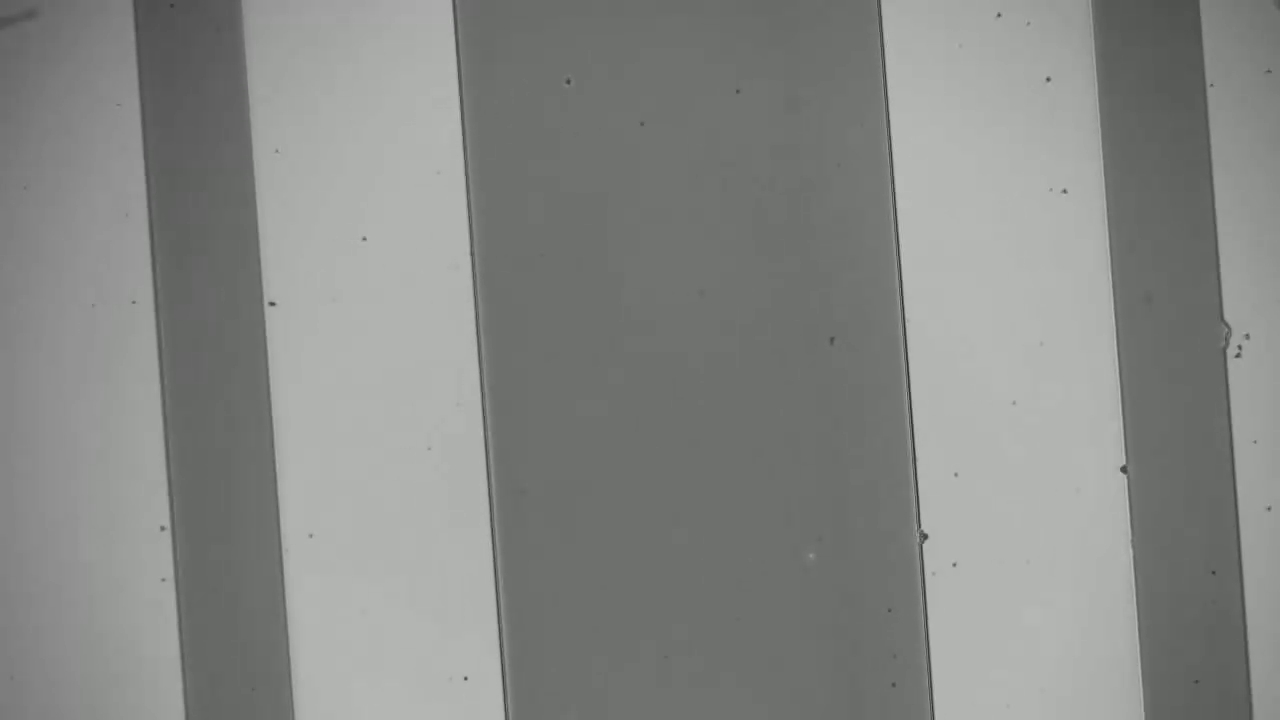edge_bite: (1205, 314, 1243, 364)
